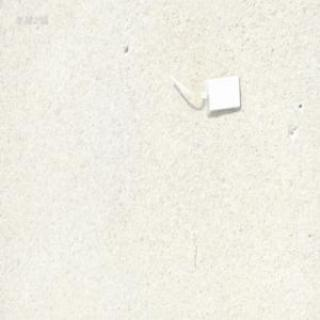LuggageTagtrack_idkeyframe: (166, 71, 242, 116)
